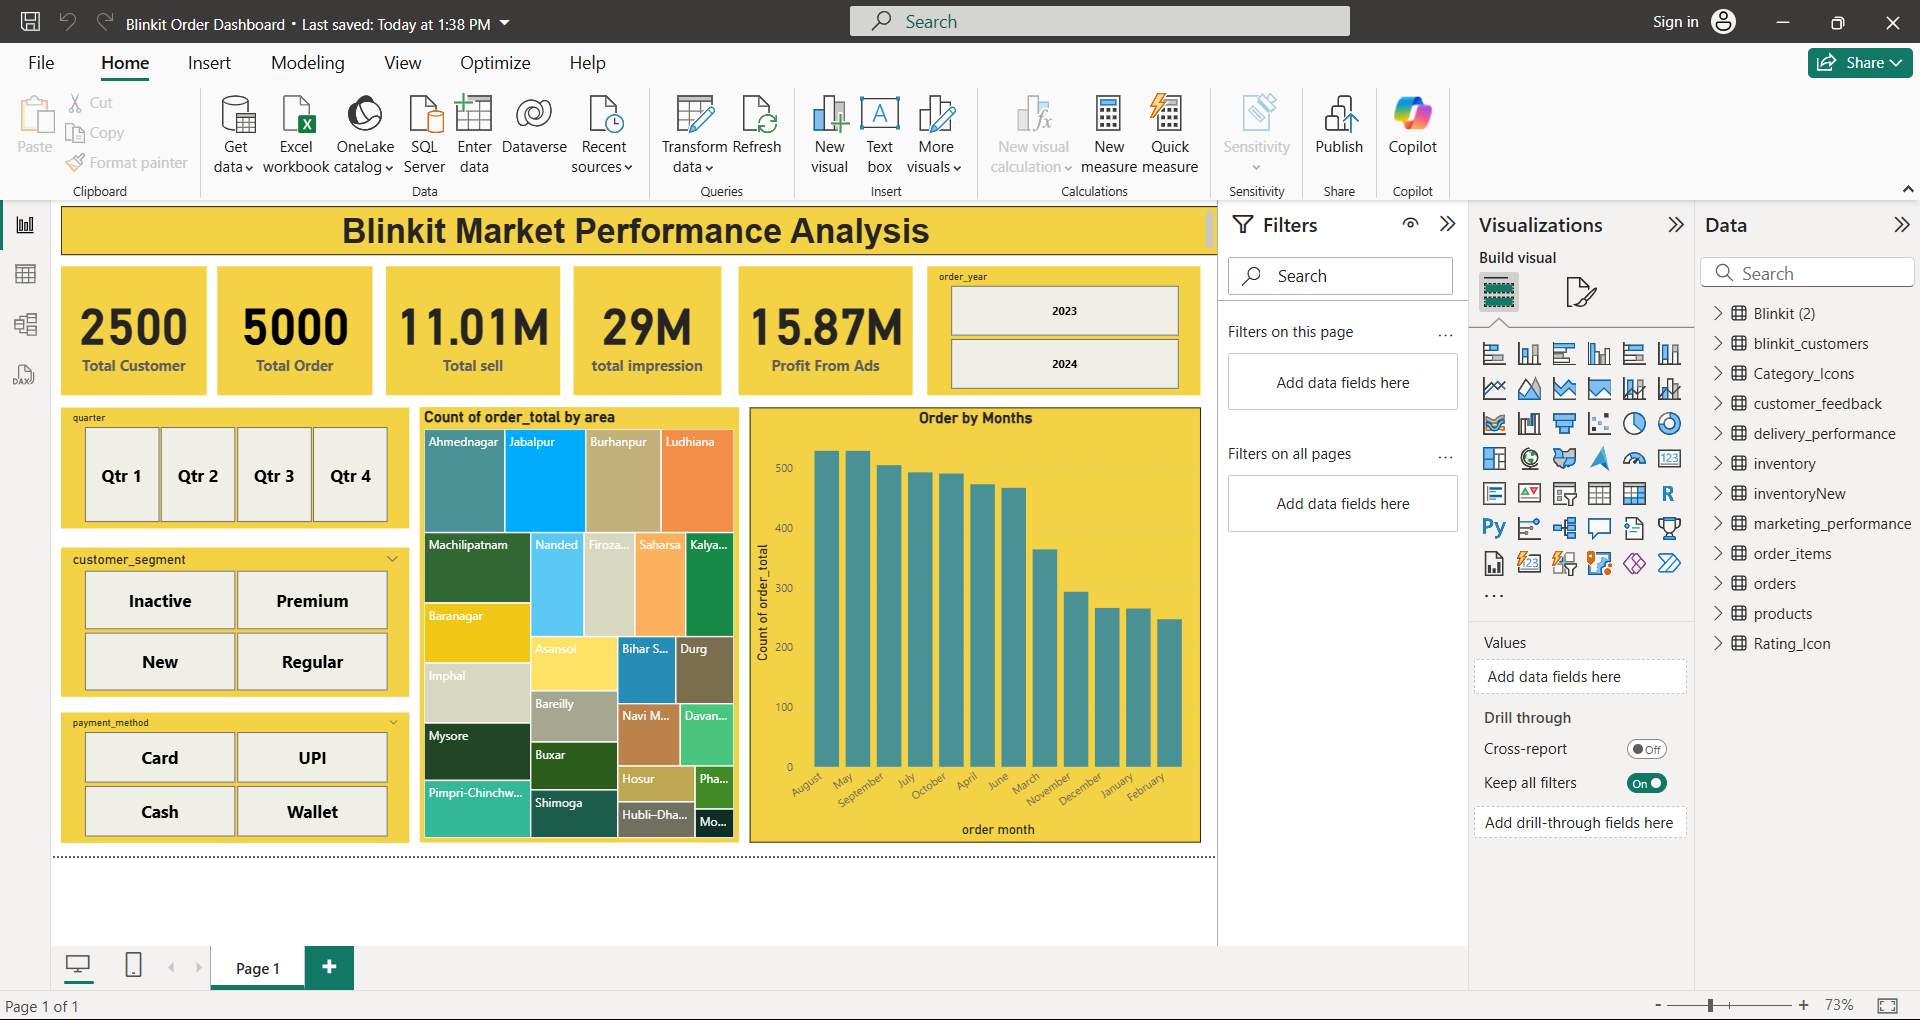

This screenshot's page, from the dashboard's own definition file:
{"tool":"powerbi","page":{"name":"Page 1","canvas":[1280,720],"ordinal":0},"visuals":[{"type":"card","fields":{"Values":["Count(blinkit_customers.customer_id)"]},"box":[10.3,72.4,160.3,141.4],"z":0},{"type":"card","fields":{"Values":["Count(orders.order_id)"]},"box":[182.8,72.4,170.7,141.4],"z":1000},{"type":"slicer","fields":{"Values":["blinkit_customers.customer_segment"]},"box":[10.3,381,382.8,163.8],"z":2000},{"type":"card","fields":{"Values":["marketing_performance.AdTotalProfit"]},"box":[755.2,72.4,191.4,141.4],"z":3000},{"type":"slicer","fields":{"Values":["orders.order_year"]},"box":[962.1,72.4,300,141.4],"z":4000},{"type":"card","fields":{"Values":["Sum(orders.order_total)"]},"box":[367.2,72.4,191.4,141.4],"z":5000},{"type":"slicer","fields":{"Values":["orders.payment_method"]},"box":[10.3,562.1,382.8,143.1],"z":6000},{"type":"slicer","fields":{"Values":["orders.quarter"]},"box":[10.3,227.6,382.8,132.8],"z":7000},{"type":"treemap","fields":{"Group":["blinkit_customers.area"],"Values":["CountNonNull(orders.order_total)"]},"box":[405.2,227.6,350,477.6],"z":8000},{"type":"card","fields":{"Values":["marketing_performance.total impression"]},"box":[574.1,72.4,162.1,141.4],"z":9000},{"type":"textbox","box":[10.3,6.9,1270.7,53.4],"z":10000},{"type":"lineStackedColumnComboChart","title":"Order by Months","fields":{"Category":["orders.order month"],"Y":["Count(orders.order_total)"]},"box":[767.2,227.6,494.8,477.6],"z":11000}]}

Visuals, with their boxes on the page's 1280x720 design canvas (x1, y1, x2, y2). These are canvas units, not pixel positions in the 1920x1020 screenshot, which may show the page scaled, cropped or inside an application window:
card - Count(blinkit_customers.customer_id): Rect(10, 72, 171, 214)
card - Count(orders.order_id): Rect(183, 72, 354, 214)
slicer - blinkit_customers.customer_segment: Rect(10, 381, 393, 545)
card - marketing_performance.AdTotalProfit: Rect(755, 72, 947, 214)
slicer - orders.order_year: Rect(962, 72, 1262, 214)
card - Sum(orders.order_total): Rect(367, 72, 559, 214)
slicer - orders.payment_method: Rect(10, 562, 393, 705)
slicer - orders.quarter: Rect(10, 228, 393, 360)
treemap - blinkit_customers.area x CountNonNull(orders.order_total): Rect(405, 228, 755, 705)
card - marketing_performance.total impression: Rect(574, 72, 736, 214)
textbox: Rect(10, 7, 1281, 60)
"Order by Months" lineStackedColumnComboChart: Rect(767, 228, 1262, 705)
